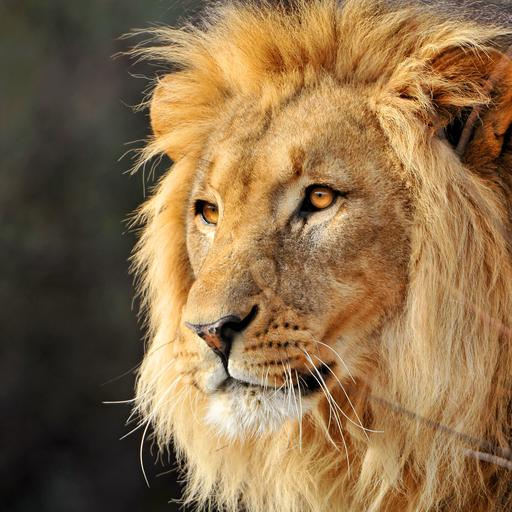Lion: (129, 0, 503, 512)
